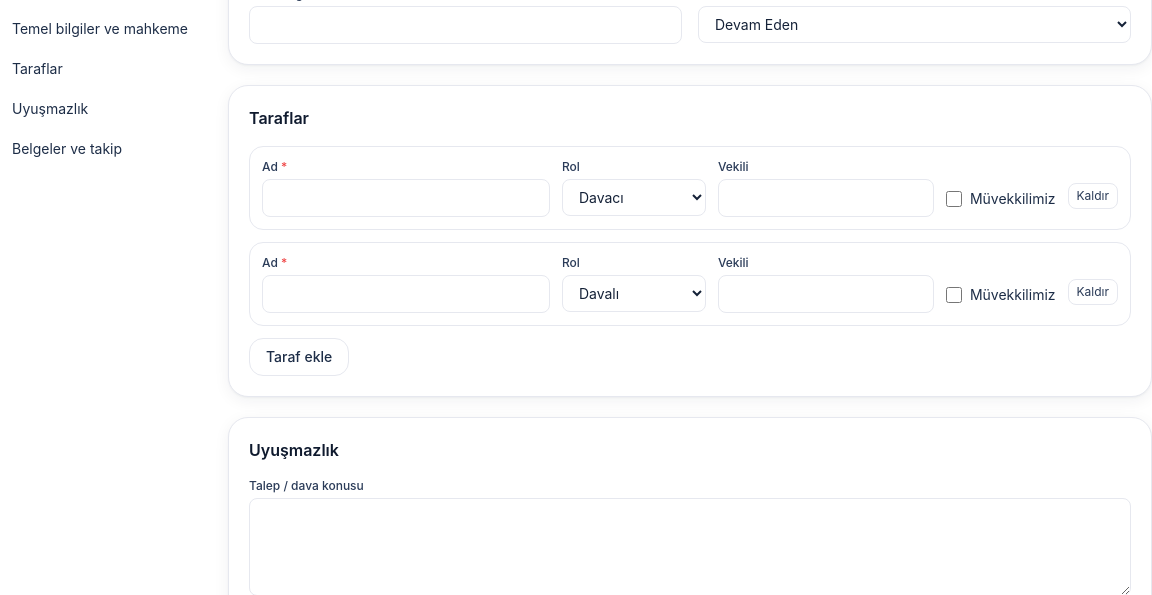
Scenario: NewCaseView › adds and removes party rows
(page scrolled)
Click the button "Taraf ekle": (299, 357) [249,338,349,376]
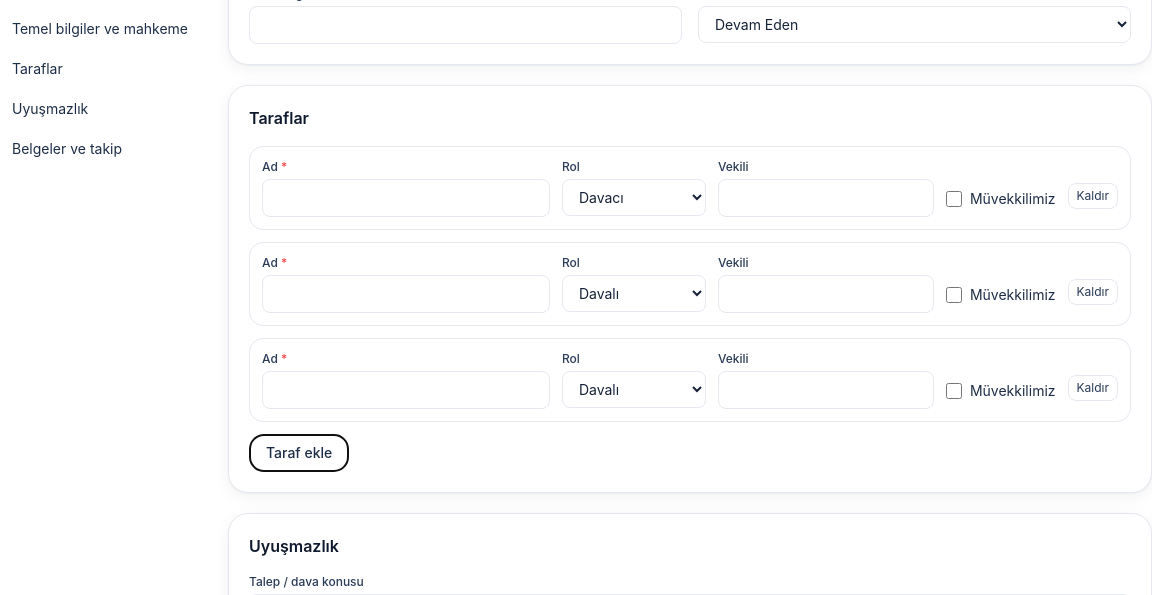
Now the number of elements "Ad * Rol Vekili Müvekkilimiz Kaldır" is 3, box [249,146,1131,230]; [249,242,1131,326]; [249,338,1131,422]
Click the button with aria-label "Taraf 3 satırını kaldır": (1093, 388) [1068,375,1118,401]
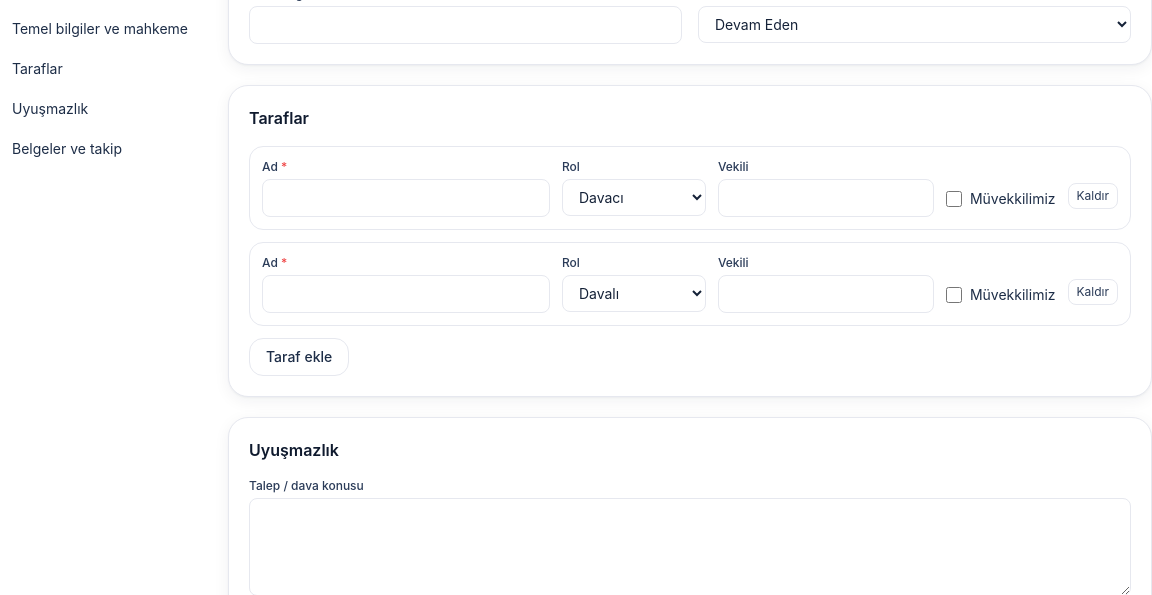
Now the number of elements "Ad * Rol Vekili Müvekkilimiz Kaldır" is 2, box [249,146,1131,230]; [249,242,1131,326]
